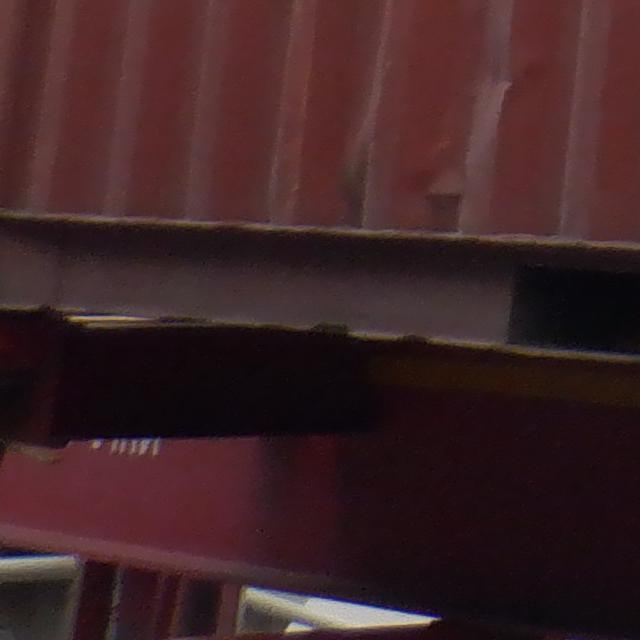dent: (294, 100, 484, 224)
